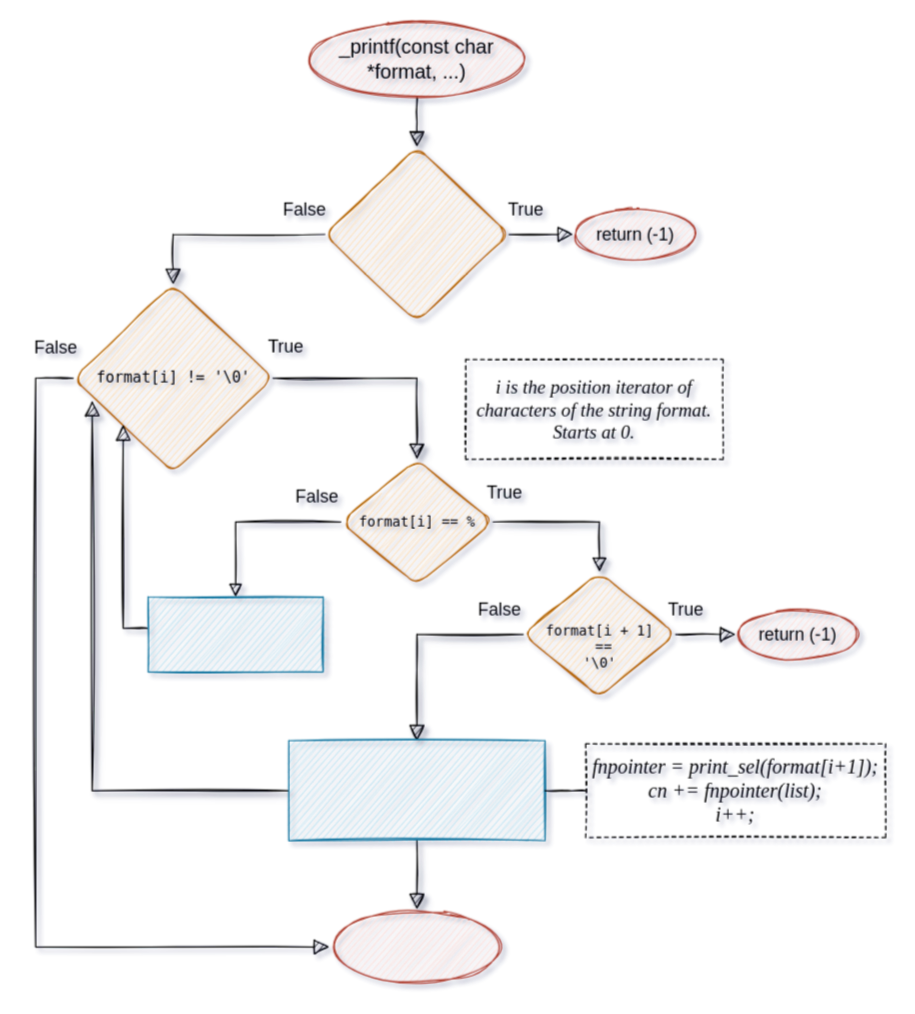
Image size: 915x1014. Some labels were removed from this diagram. Here are the shapes that lost their labels. From the top down, the centre of each, then its label:
At [416,234]: "format == NULL || (format[0] == % && !format[1])".
At [235,634]: "putchar(format[i]) char counter ++ i++".
At [416,790]: "calls the selected function based on the found identifier after the %".
At [416,946]: "return (char counter)".
